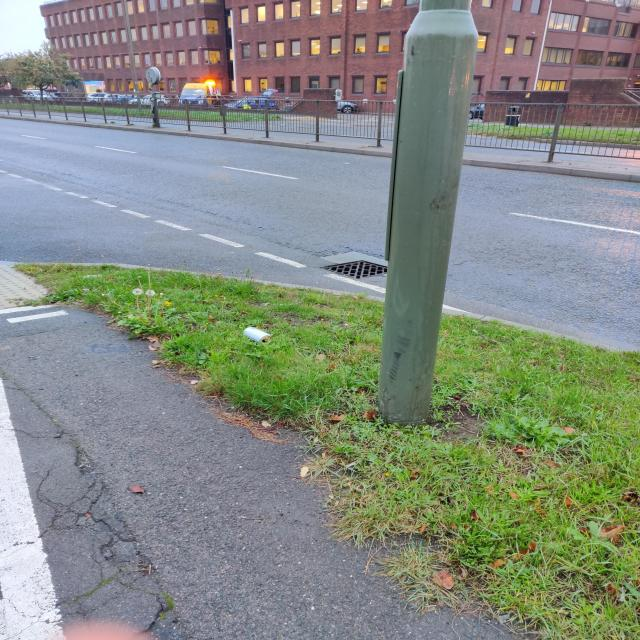litter: (240, 324, 270, 344)
